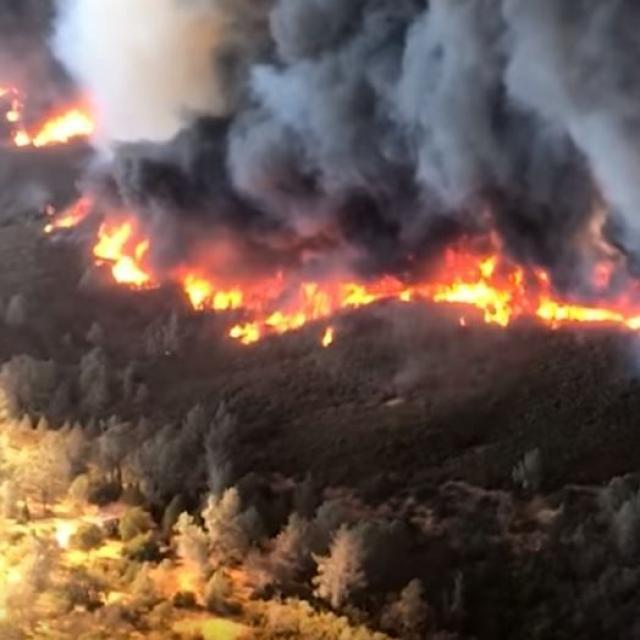Fire: (1, 72, 640, 354)
Smoke: (24, 0, 640, 270)
